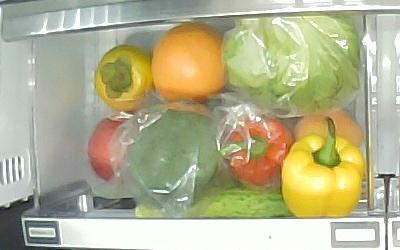broccoli_vinyl: (130, 112, 217, 210)
cucumber: (135, 188, 294, 217)
grapefruit: (152, 23, 228, 102)
lettuce_vinyl: (223, 14, 360, 114)
paprika: (282, 117, 364, 217)
paprika_vinyl: (219, 115, 295, 189)
peach: (294, 107, 363, 149)
persimmon: (95, 45, 156, 113)
